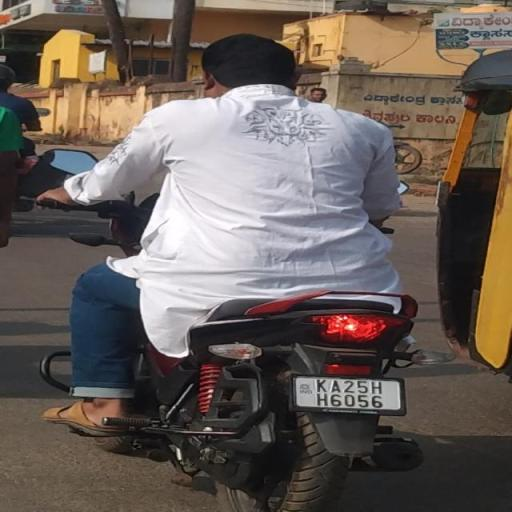bike: (34, 30, 446, 511)
numberplate: (297, 376, 404, 412)
withouthelmet: (204, 36, 296, 87)
